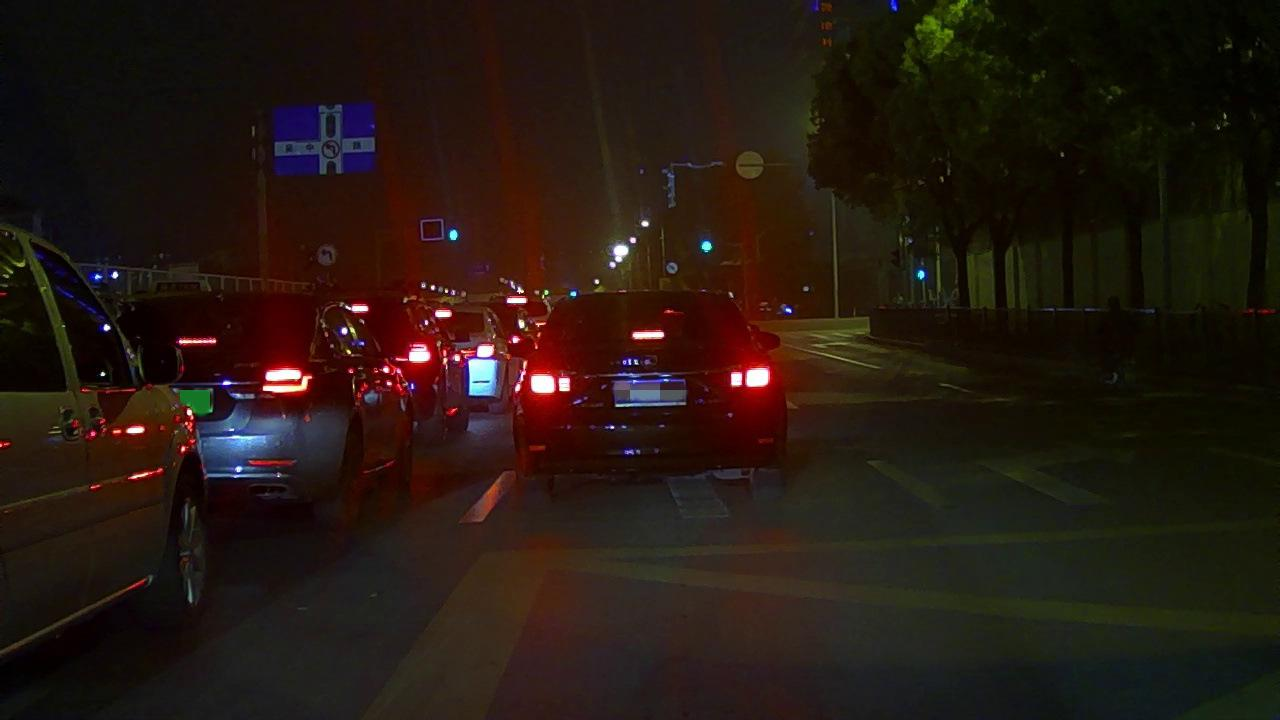traffic_light: (449, 229, 459, 240), (702, 240, 712, 251)
